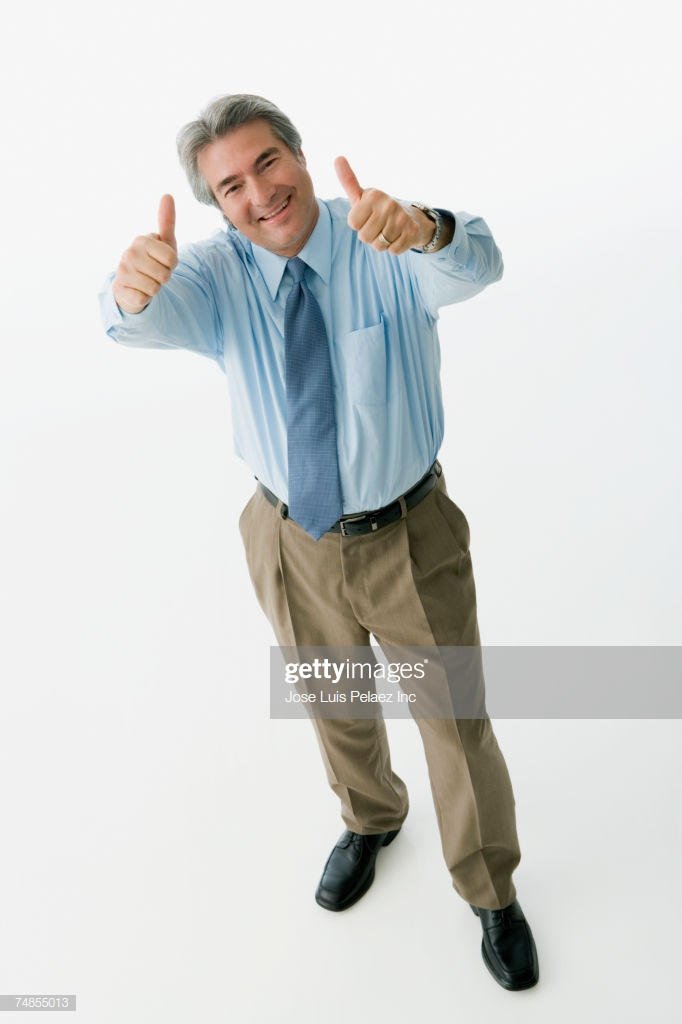thumbsup: (334, 156, 419, 255), (112, 194, 178, 312)
